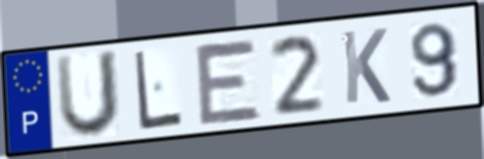2: (266, 32, 328, 118)
9: (407, 18, 463, 100)
E: (191, 37, 265, 128)
K: (339, 26, 393, 107)
L: (131, 47, 185, 133)
U: (52, 47, 122, 141)
